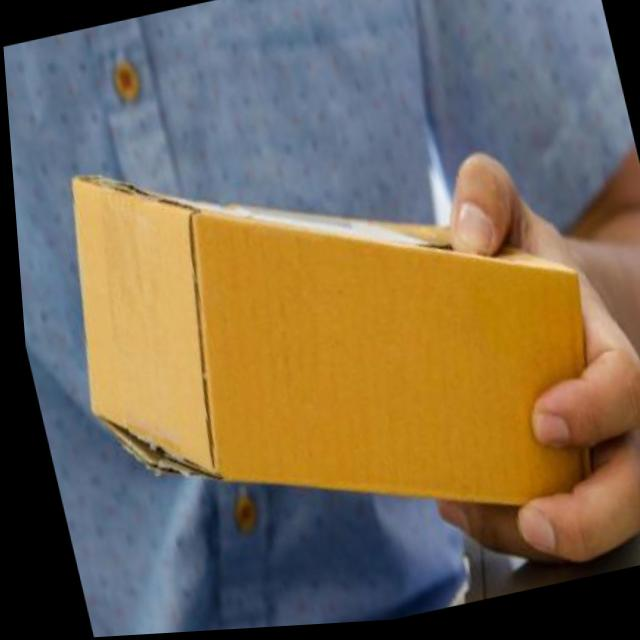box: (21, 55, 638, 639)
